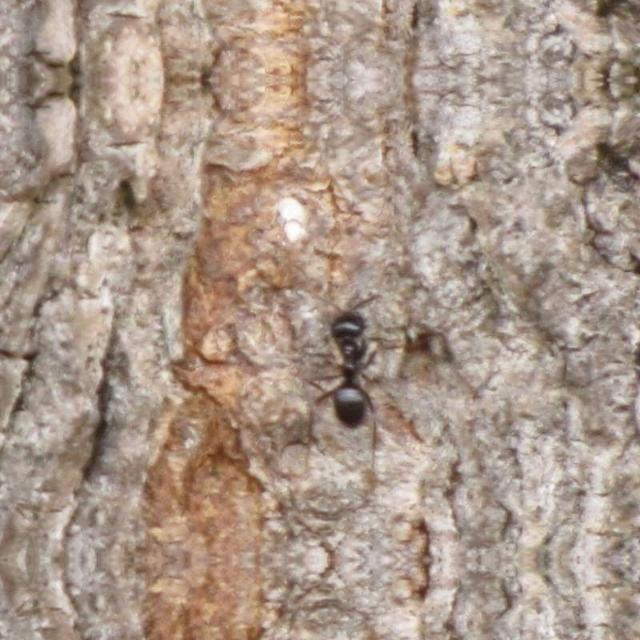Lasius: (323, 284, 407, 428)
